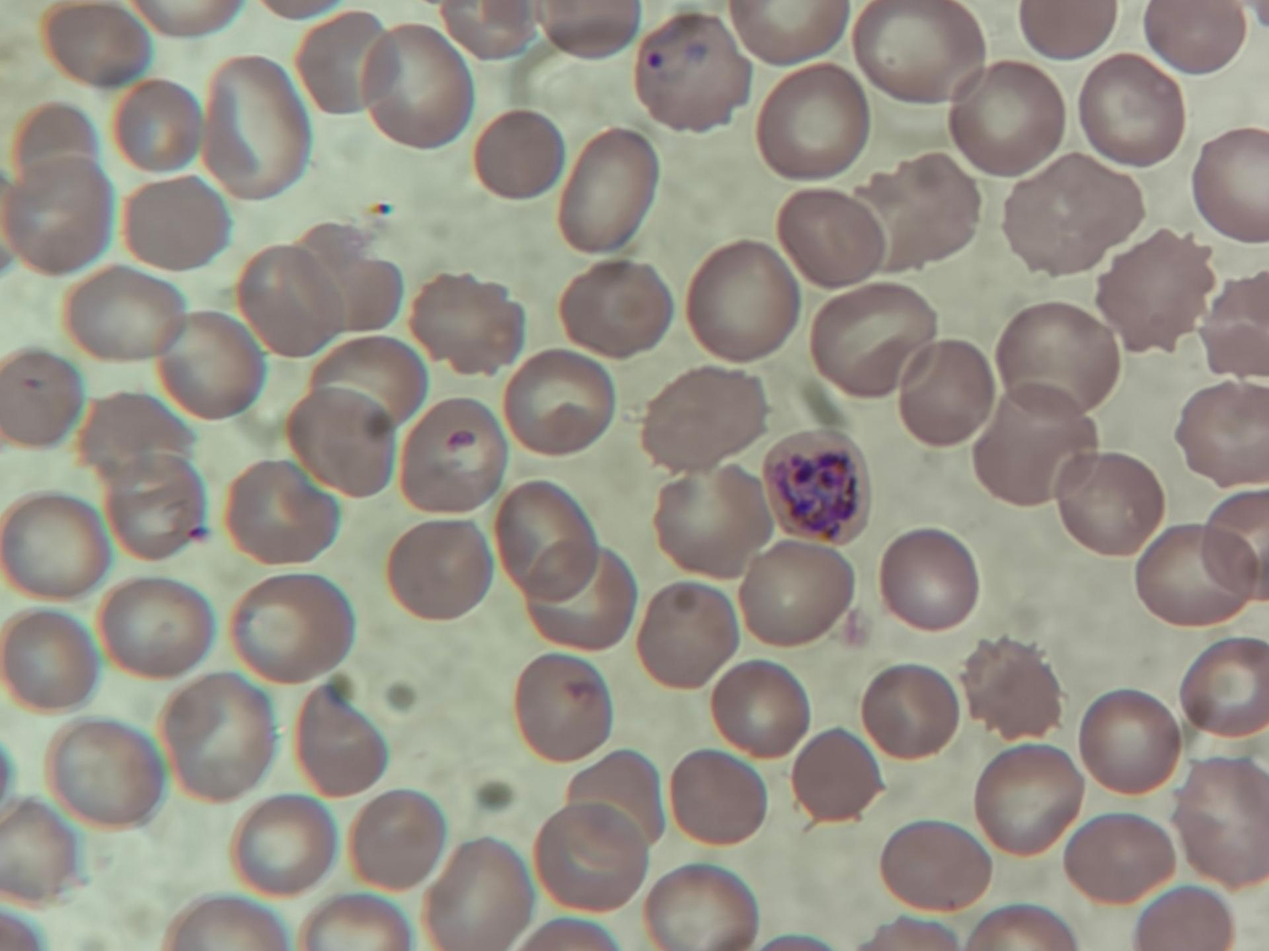Infected: (634, 13, 750, 131), (767, 430, 876, 548)
Uninfected: (205, 57, 312, 201), (852, 153, 979, 274), (157, 672, 275, 799), (1096, 229, 1212, 352), (364, 24, 477, 149), (809, 282, 931, 397), (229, 571, 352, 683), (3, 152, 114, 276), (641, 365, 767, 474), (972, 393, 1093, 506), (494, 479, 605, 601), (685, 241, 798, 360), (994, 303, 1116, 413), (48, 716, 166, 829), (397, 395, 511, 511), (532, 801, 650, 912), (287, 383, 401, 497), (949, 61, 1064, 174), (652, 467, 769, 577), (853, 1, 981, 100), (755, 64, 868, 176), (558, 128, 659, 250), (423, 839, 533, 950), (100, 448, 209, 560), (1135, 523, 1252, 627), (1171, 759, 1268, 884), (502, 348, 615, 455), (738, 540, 851, 647), (297, 223, 404, 336), (1078, 53, 1184, 167), (225, 460, 340, 565), (238, 244, 345, 356), (98, 577, 214, 680), (154, 311, 262, 419), (974, 746, 1081, 855), (411, 270, 526, 371), (521, 547, 636, 648), (387, 517, 498, 621), (304, 335, 424, 431), (67, 263, 183, 362), (956, 636, 1065, 741), (559, 258, 671, 360), (1005, 164, 1102, 279), (1, 493, 108, 597), (292, 685, 389, 799), (512, 654, 615, 760), (1056, 454, 1164, 555), (124, 176, 233, 276), (777, 188, 887, 287), (637, 582, 743, 684), (230, 793, 335, 895), (346, 789, 448, 893), (77, 389, 196, 477), (879, 819, 990, 912), (299, 12, 399, 115), (2, 607, 102, 710), (895, 341, 995, 443), (1078, 693, 1178, 795), (43, 0, 153, 91), (879, 529, 979, 629), (1064, 813, 1172, 905), (642, 864, 754, 951), (1044, 159, 1143, 257), (1176, 638, 1269, 742), (1177, 379, 1269, 484), (860, 663, 960, 759), (562, 750, 660, 847), (670, 748, 768, 845), (709, 661, 808, 756), (790, 729, 884, 825), (1191, 126, 1269, 239), (1, 796, 83, 903), (112, 80, 204, 171), (473, 109, 565, 200), (0, 350, 84, 445), (733, 1, 849, 65), (1144, 0, 1242, 75), (1201, 271, 1269, 377), (1201, 496, 1269, 600), (11, 100, 101, 172), (1134, 885, 1231, 947), (1022, 1, 1115, 60)
